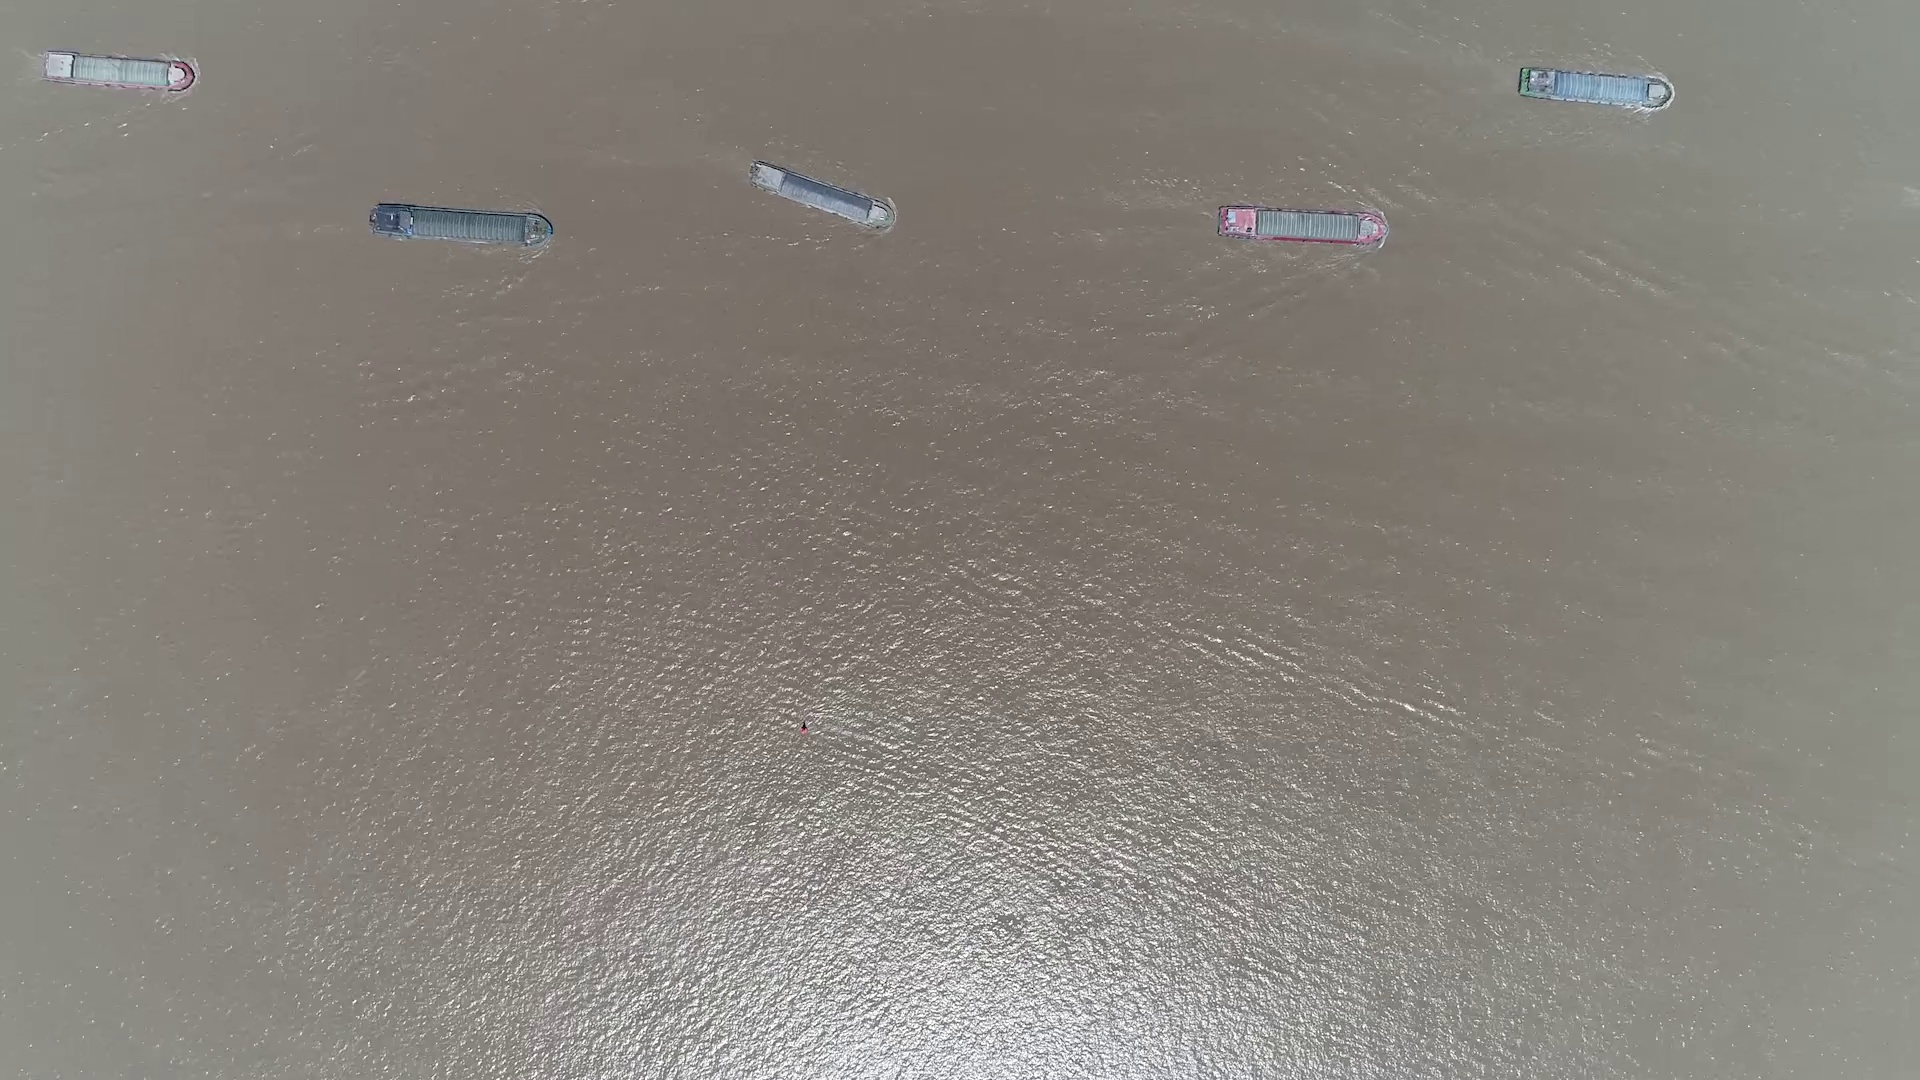ship: (748, 162, 895, 228), (368, 204, 551, 247), (1216, 206, 1387, 245), (1518, 69, 1671, 108), (37, 55, 195, 90)
